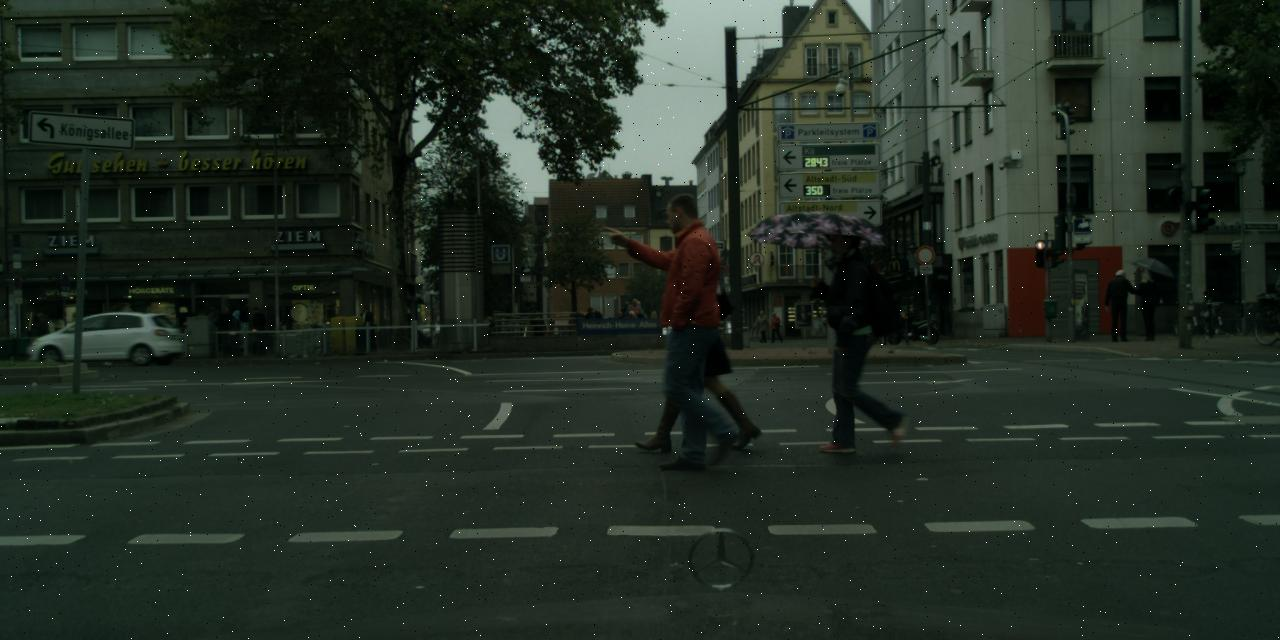ped: (639, 192, 752, 467), (811, 213, 908, 449), (659, 246, 742, 449), (1130, 257, 1164, 340), (1105, 270, 1134, 342), (247, 307, 266, 353), (226, 311, 245, 356), (618, 298, 659, 318), (217, 306, 234, 352), (357, 305, 375, 347), (530, 310, 546, 351), (586, 306, 602, 347), (1202, 290, 1218, 330), (769, 310, 781, 342), (756, 310, 768, 341)
